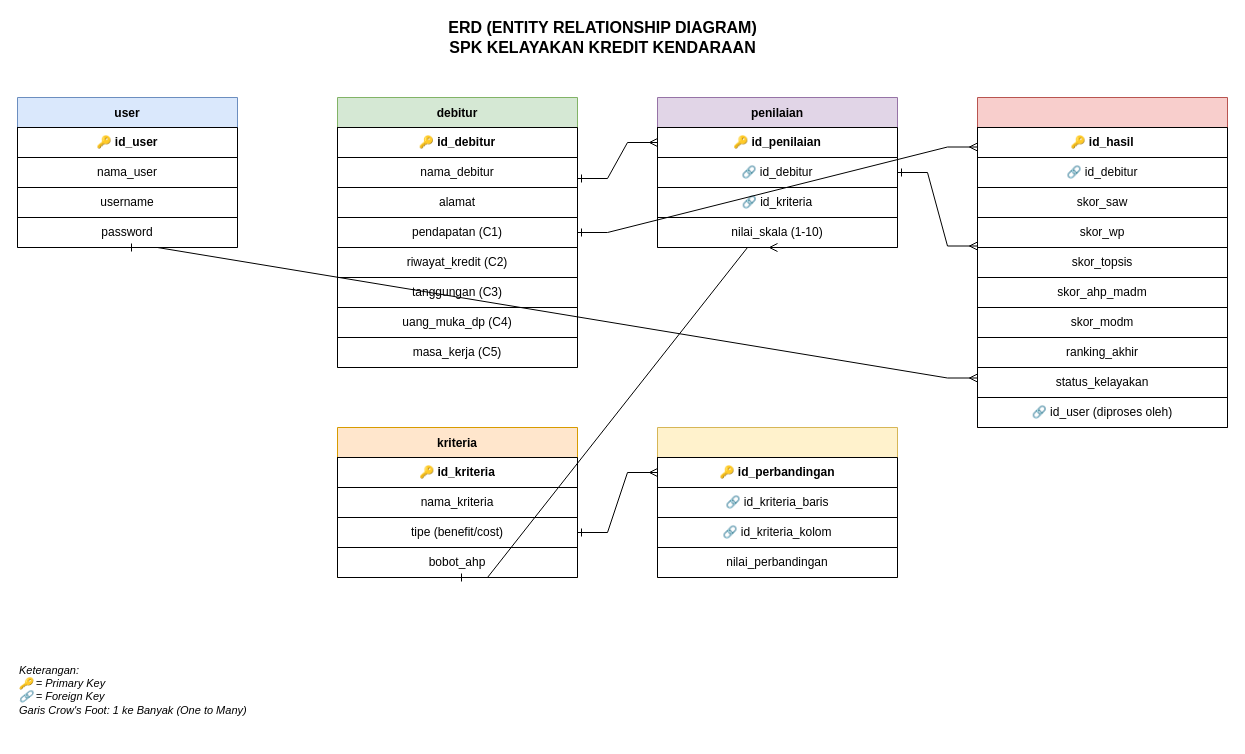
Image size: 1245x754. Some labels were removed from this diagram. Here are the shapes that lost their labels. From the top down, the box of each, then its label:
(976, 96, 1228, 428): hasil_perhitungan
(656, 426, 898, 578): perbandingan_ahp
